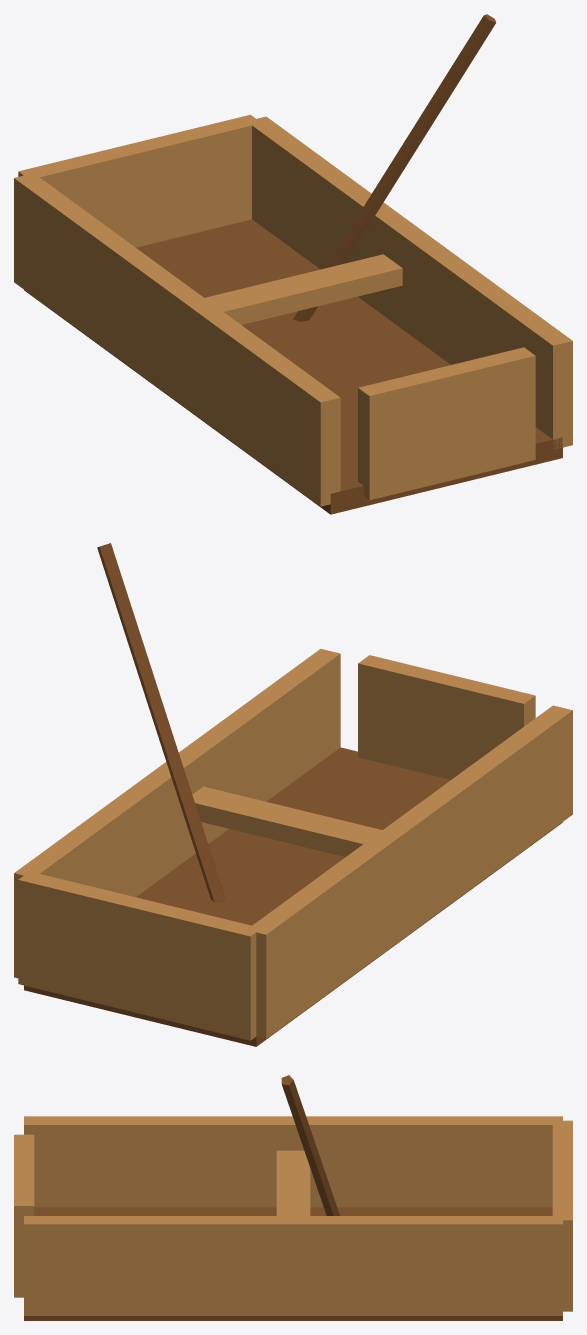
The model's file is rowboat.glb.
The picture shows the model from 3 angles, top to bottom: view 1: azimuth 30°, elevation 25°; view 2: azimuth 150°, elevation 25°; view 3: azimuth 270°, elevation 25°; orthographic projection. The views are drawn at different scales.
Visible parts, largest first — view 1: rowboat; view 2: rowboat; view 3: rowboat.
Boxes of the visible parts, x1,y1,x2,y2 form: rowboat: [14, 14, 572, 514]; rowboat: [14, 543, 572, 1046]; rowboat: [14, 1075, 572, 1320].
Size of the model in its own units: 0.9792 by 1.05 by 1.66.
